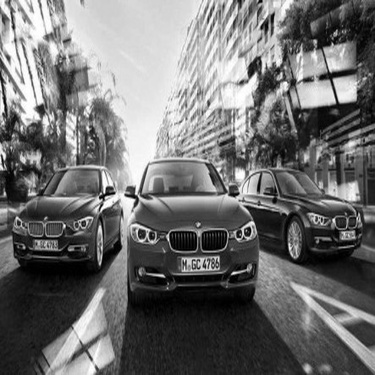car: (119, 146, 264, 309), (222, 163, 366, 269), (18, 154, 133, 275)
